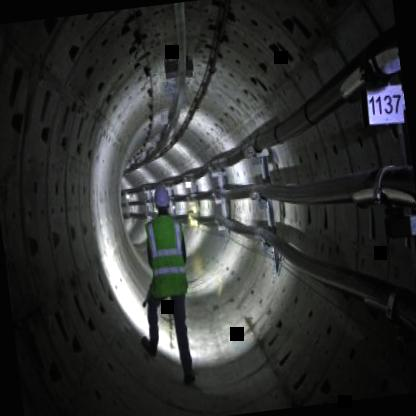helmet: (150, 182, 174, 219)
